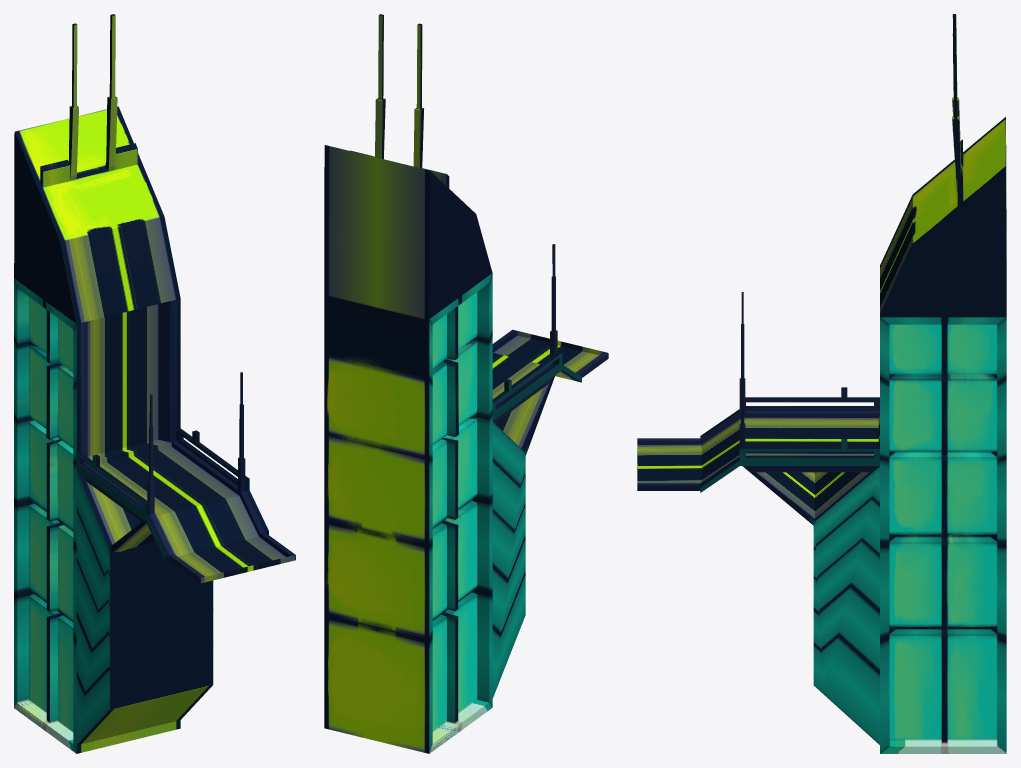
The model's file is Building3.fbx.
3 views of the same model, side by side, from view 1: azimuth 30°, elevation 25°; view 2: azimuth 150°, elevation 25°; view 3: azimuth 270°, elevation 25° (orthographic).
Visible parts, largest first — view 1: Building_3; view 2: Building_3; view 3: Building_3.
Boxes of the visible parts, box(x1,y1,x2,y2) form: Building_3: box(14, 14, 295, 753); Building_3: box(324, 14, 608, 753); Building_3: box(637, 14, 1006, 753).
Bounding box in the file's own units: 1.61 × 10.23 × 4.86.
1 material, 1 textured.
